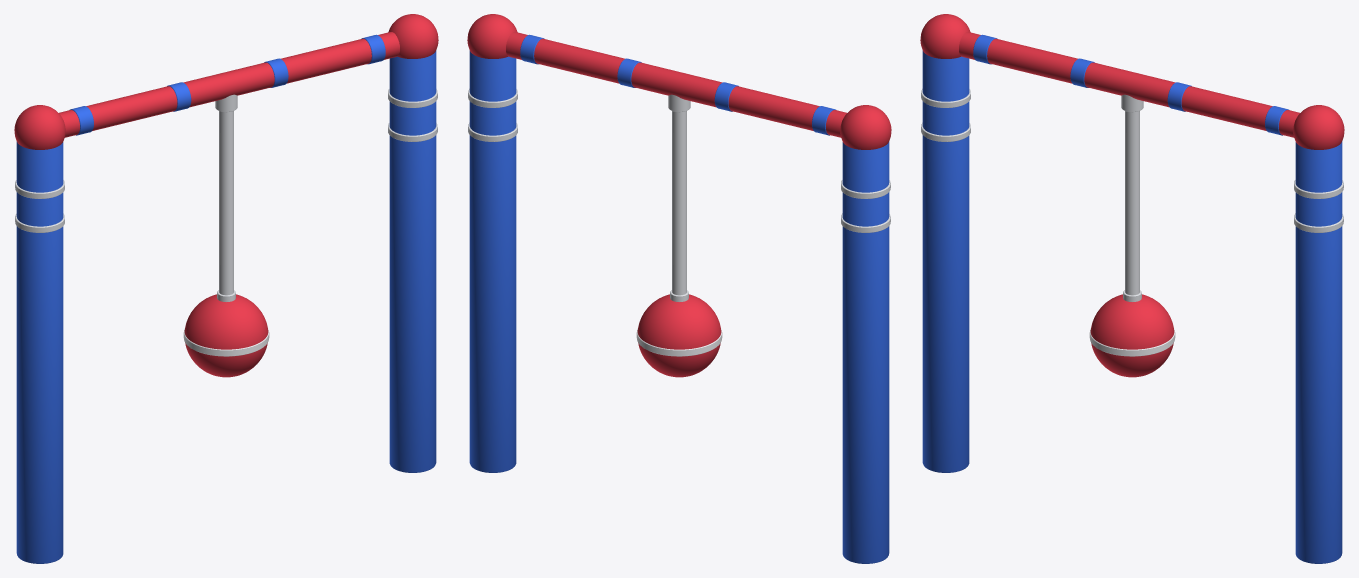
Rendered from SD_Pendulum.fbx.
3 views of the same model, side by side, from view 1: azimuth 30°, elevation 25°; view 2: azimuth 150°, elevation 25°; view 3: azimuth 330°, elevation 25° (orthographic).
Parts seen in each view (by area): view 1: Gantry, Arm; view 2: Gantry, Arm; view 3: Gantry, Arm.
Part boxes in pixels (x1,y1,x2,y2): Gantry: [14, 14, 438, 563]; Arm: [183, 94, 269, 377]; Gantry: [467, 14, 891, 563]; Arm: [636, 94, 722, 377]; Gantry: [920, 14, 1344, 563]; Arm: [1089, 94, 1175, 377].
Bounding box in the file's own units: 10.3 × 10.55 × 1.82.
